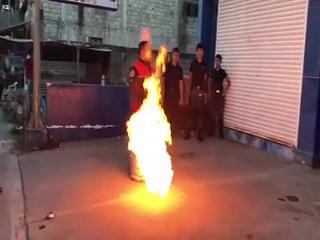Fire: (126, 72, 176, 199)
